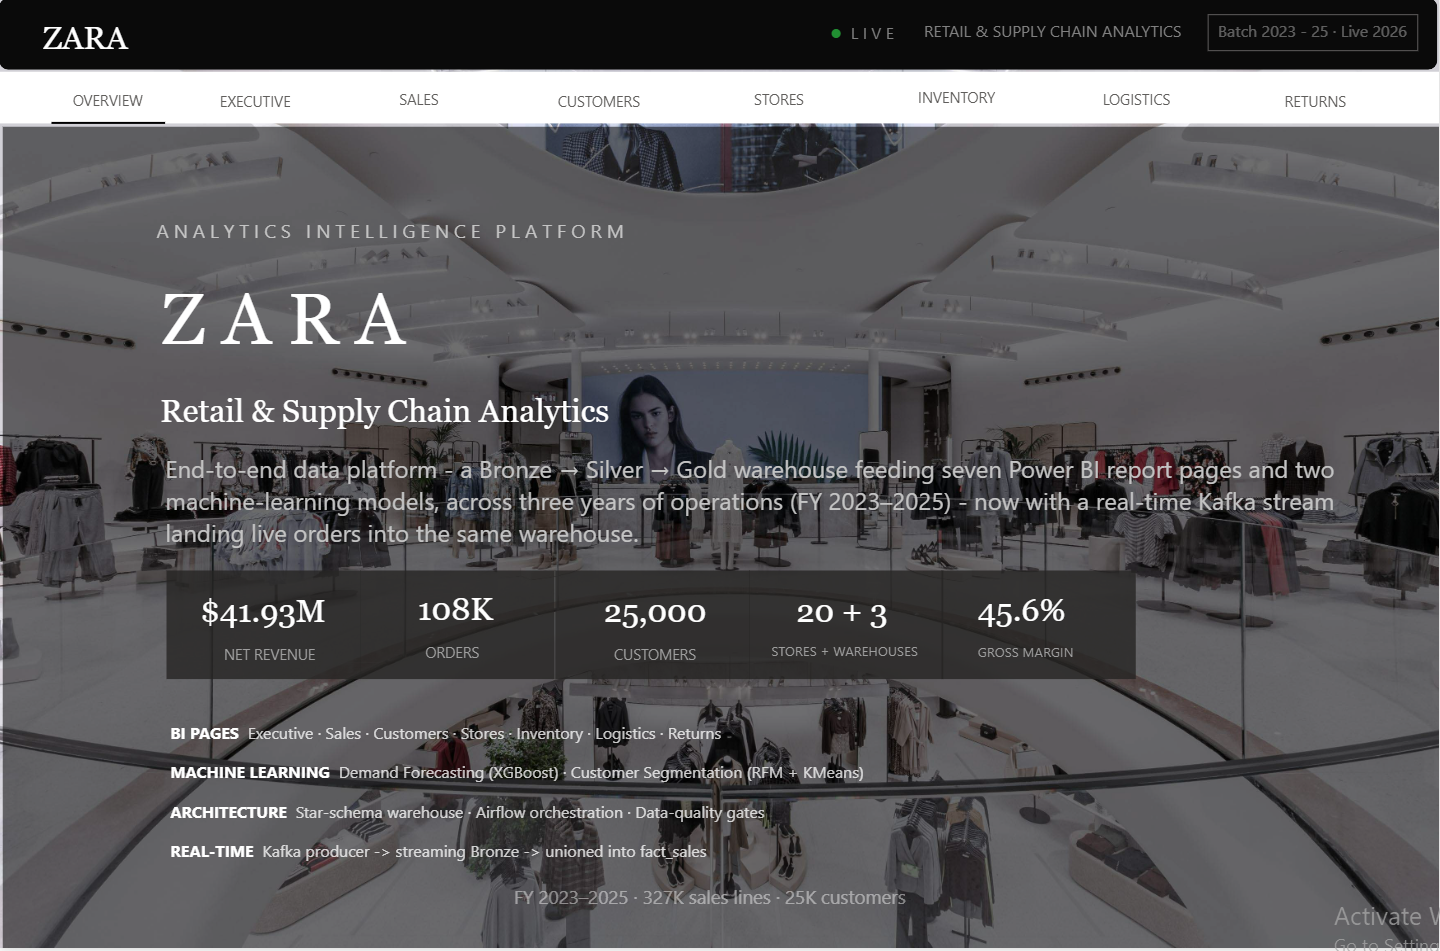

The page's visual inventory and layout, read from the dashboard file:
{"tool":"powerbi","page":{"name":"OVERVIEW","canvas":[1440,950],"ordinal":0},"visuals":[{"type":"shape","box":[0,0,1438.3,71.7],"z":0},{"type":"textbox","box":[39.2,16.2,112.2,48.6],"z":1000},{"type":"shape","box":[0,73.3,1440,51.7],"z":2000},{"type":"shape","box":[52.2,103,113.7,44.8],"z":3000},{"type":"actionButton","box":[182.9,75.7,147.4,53.9],"z":4000},{"type":"actionButton","box":[330.4,74.3,179.7,54.1],"z":5000},{"type":"actionButton","box":[510.1,75.7,179.7,54.1],"z":6000},{"type":"actionButton","box":[689.6,73.2,180,54.7],"z":7000},{"type":"actionButton","box":[867.5,71.6,180,54.7],"z":8000},{"type":"actionButton","box":[1047.6,73.8,180,54.3],"z":9000},{"type":"actionButton","box":[1226.7,75,180,54.4],"z":10000},{"type":"actionButton","box":[35.6,75.6,147.4,53.7],"z":11000},{"type":"shape","box":[3.3,128.3,1436.7,821.7],"z":12000},{"type":"textbox","box":[158,275,333.7,101.7],"z":13000},{"type":"textbox","box":[153,215,673.7,60],"z":14000},{"type":"textbox","box":[156.7,390,530,60],"z":15000},{"type":"textbox","box":[161.7,450,1211.7,111.7],"z":16000},{"type":"shape","box":[167.1,572.9,194.3,108.6],"z":17000},{"type":"textbox","box":[195.7,590,144.3,51.4],"z":18000},{"type":"textbox","box":[220,641.4,104.3,30],"z":19000},{"type":"shape","box":[361.4,572.9,194.3,108.6],"z":20000},{"type":"textbox","box":[414.3,587.1,120,51.4],"z":21000},{"type":"textbox","box":[421.4,638.6,71.4,30],"z":22000},{"type":"shape","box":[555.7,572.9,194.3,108.6],"z":23000},{"type":"textbox","box":[600,590,130,51.4],"z":24000},{"type":"textbox","box":[610.6,641.1,104.3,30],"z":25000},{"type":"shape","box":[750,572.9,194.3,108.6],"z":26000},{"type":"textbox","box":[792.9,590,130,51.4],"z":27000},{"type":"textbox","box":[767.1,638.6,175.7,32.9],"z":28000},{"type":"shape","box":[942.9,572.9,194.3,108.6],"z":29000},{"type":"textbox","box":[974.3,588.6,107.1,51.4],"z":30000},{"type":"textbox","box":[974.3,640,107.1,30],"z":31000},{"type":"textbox","box":[166.7,718.3,1216.7,163.3],"z":32000},{"type":"textbox","box":[510,881.7,571.7,35],"z":33000},{"type":"textbox","box":[1208.3,16.7,210,36.7],"z":34000},{"type":"textbox","box":[911.7,16.7,283.3,36.7],"z":35000},{"type":"textbox","box":[826.7,16.7,85,36.7],"z":36000}]}

Visuals, with their boxes in screenshot pixels (x1, y1, x2, y2), scaled from the page's 1440x950 canvas onto the 1440x951 screenshot:
shape: select_region(0, 0, 1438, 72)
textbox: select_region(39, 16, 151, 65)
shape: select_region(0, 73, 1439, 125)
shape: select_region(52, 103, 166, 148)
actionButton: select_region(183, 76, 330, 130)
actionButton: select_region(330, 74, 510, 129)
actionButton: select_region(510, 76, 690, 130)
actionButton: select_region(690, 73, 870, 128)
actionButton: select_region(868, 72, 1048, 126)
actionButton: select_region(1048, 74, 1228, 128)
actionButton: select_region(1227, 75, 1407, 130)
actionButton: select_region(36, 76, 183, 129)
shape: select_region(3, 128, 1439, 950)
textbox: select_region(158, 275, 492, 377)
textbox: select_region(153, 215, 827, 275)
textbox: select_region(157, 390, 687, 450)
textbox: select_region(162, 450, 1373, 562)
shape: select_region(167, 574, 361, 682)
textbox: select_region(196, 591, 340, 642)
textbox: select_region(220, 642, 324, 672)
shape: select_region(361, 574, 556, 682)
textbox: select_region(414, 588, 534, 639)
textbox: select_region(421, 639, 493, 669)
shape: select_region(556, 574, 750, 682)
textbox: select_region(600, 591, 730, 642)
textbox: select_region(611, 642, 715, 672)
shape: select_region(750, 574, 944, 682)
textbox: select_region(793, 591, 923, 642)
textbox: select_region(767, 639, 943, 672)
shape: select_region(943, 574, 1137, 682)
textbox: select_region(974, 589, 1081, 641)
textbox: select_region(974, 641, 1081, 671)
textbox: select_region(167, 719, 1383, 883)
textbox: select_region(510, 883, 1082, 918)
textbox: select_region(1208, 17, 1418, 53)
textbox: select_region(912, 17, 1195, 53)
textbox: select_region(827, 17, 912, 53)
